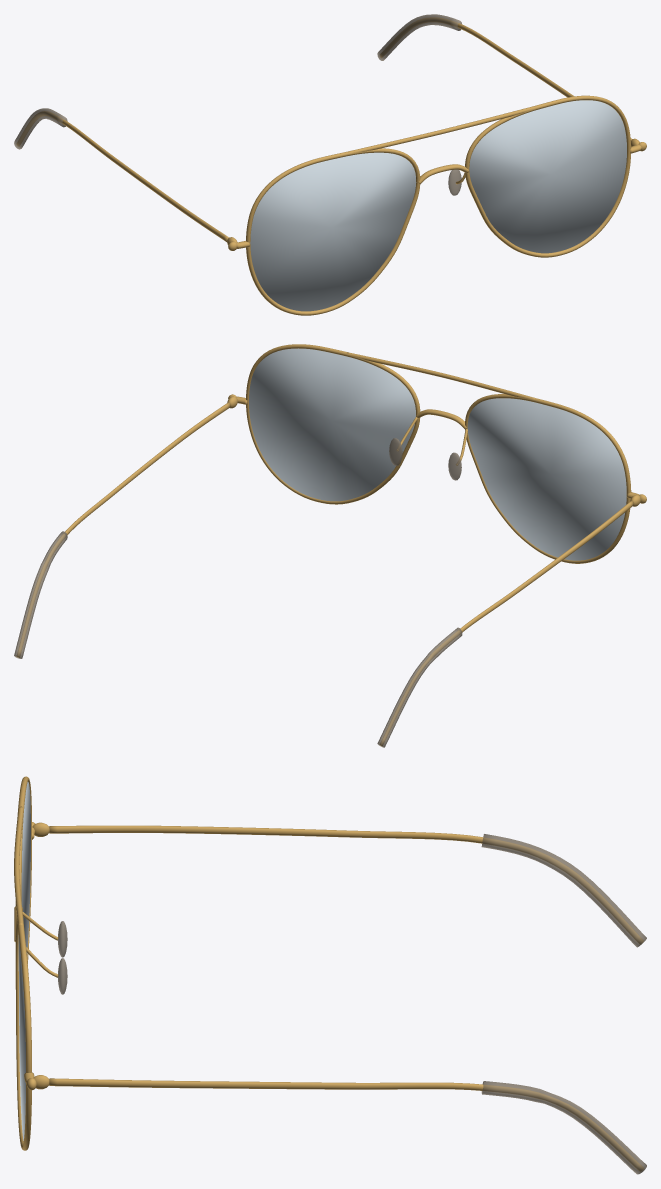
The picture shows the model from 3 angles, top to bottom: view 1: azimuth 30°, elevation 25°; view 2: azimuth 150°, elevation 25°; view 3: azimuth 270°, elevation 25°; orthographic projection. The views are drawn at different scales.
Parts seen in each view (by area): view 1: Lens_image_left, Rim_image_left, Temple_tip_image_left, Hinge_image_left; view 2: Lens_image_left, Rim_image_left, Temple_tip_image_left, Hinge_image_left; view 3: Rim_image_left, Temple_tip_image_left, Lens_image_left, Hinge_image_left.
Boxes of the visible parts, x1,y1,x2,y2 form: Lens_image_left: (250,100,626,311); Rim_image_left: (16,17,646,315); Temple_tip_image_left: (14,14,461,195); Hinge_image_left: (227,105,639,244); Lens_image_left: (249,348,626,560); Rim_image_left: (16,344,646,746); Temple_tip_image_left: (14,438,462,747); Hinge_image_left: (227,352,640,506); Rim_image_left: (15,776,643,1171); Temple_tip_image_left: (58,834,646,1174); Lens_image_left: (18,782,30,1140); Hinge_image_left: (14,806,58,1089).
Size of the model in its own units: 0.14 by 0.0501 by 0.1431.
